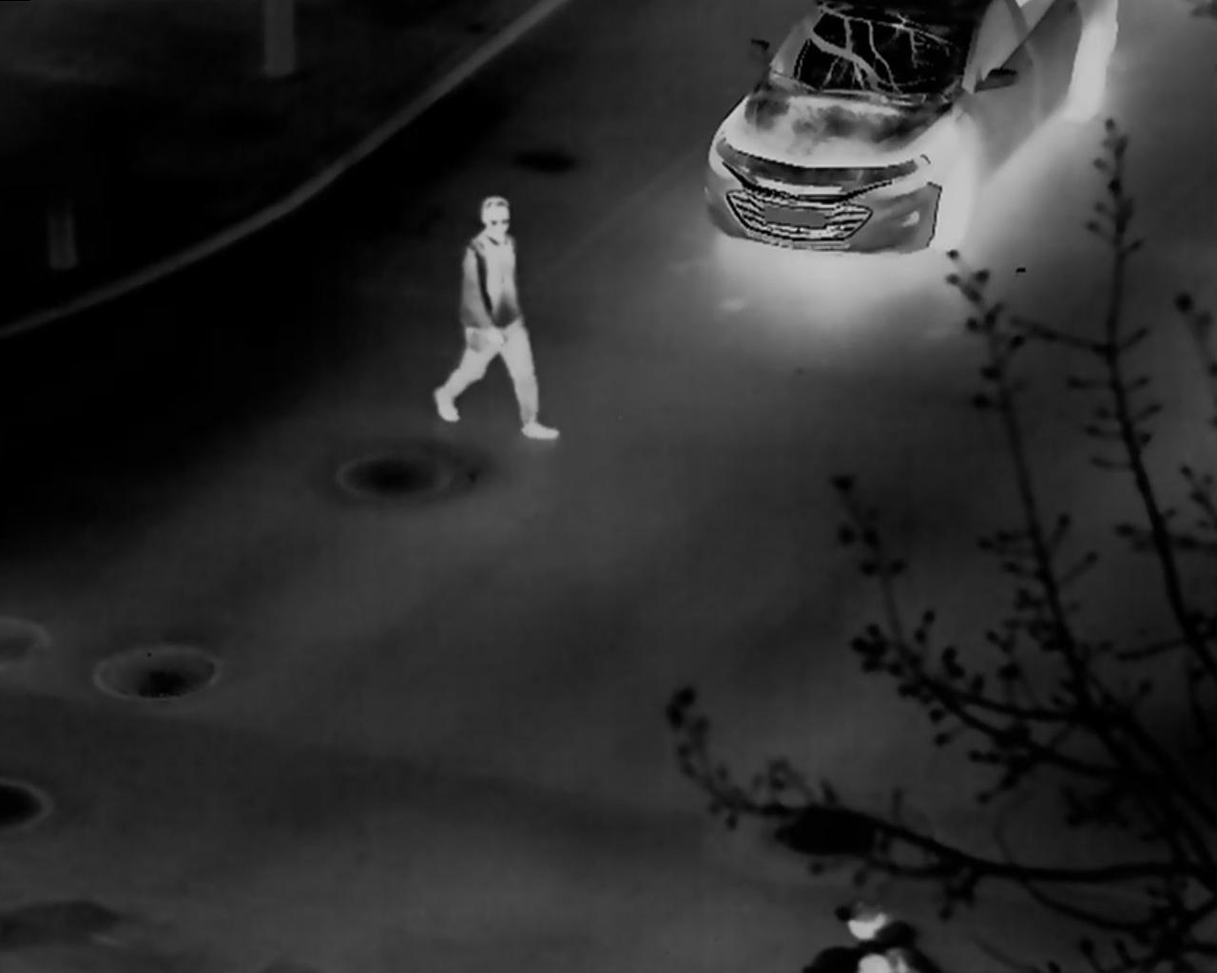person: (433, 197, 561, 439), (814, 886, 922, 973)
